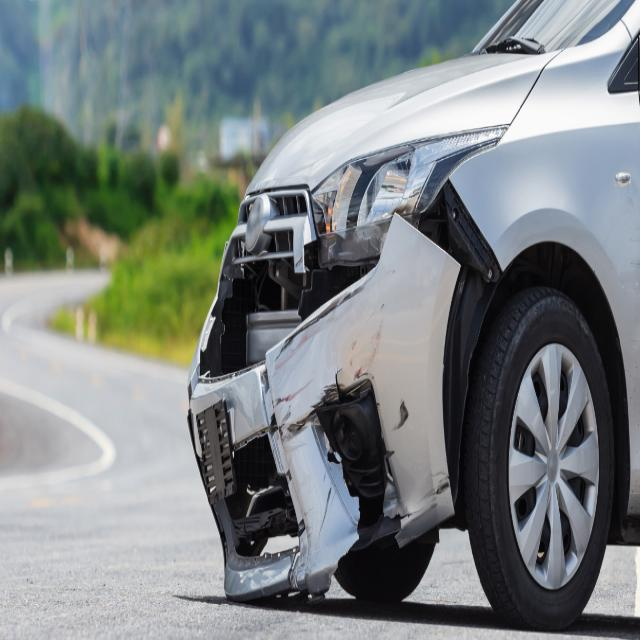crush: (186, 168, 503, 600)
